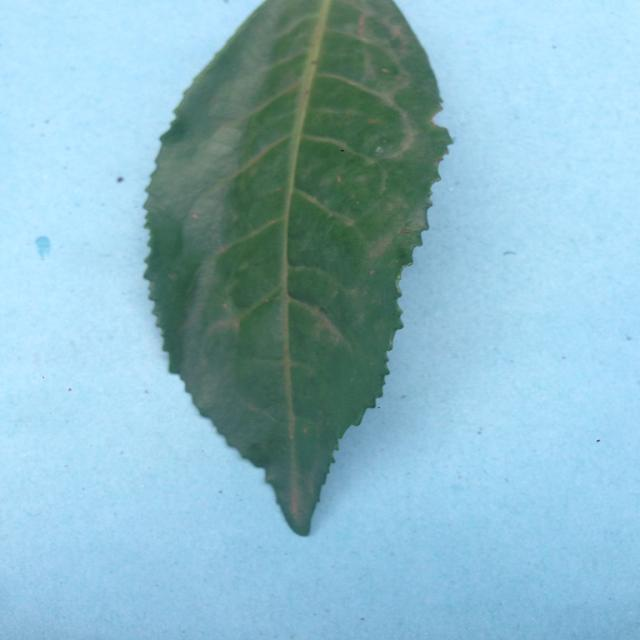Healthy: (101, 5, 474, 559)
